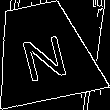N_N: (16, 23, 71, 81)
